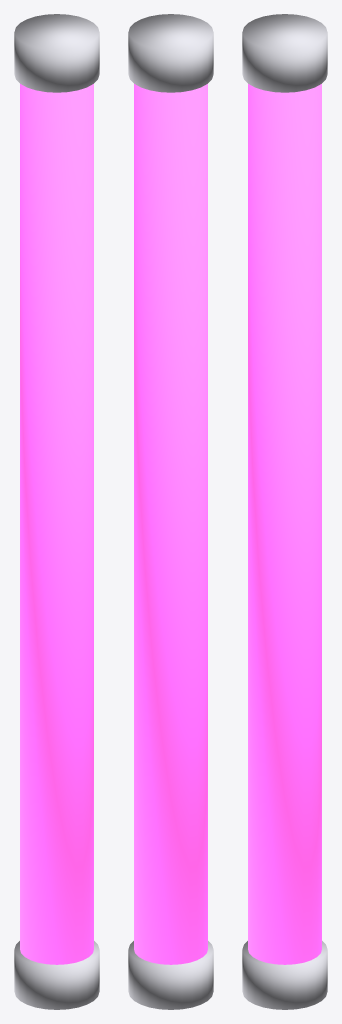
The model's file is glowstick_pink.glb.
3 views of the same model, side by side, from view 1: azimuth 30°, elevation 25°; view 2: azimuth 150°, elevation 25°; view 3: azimuth 330°, elevation 25° (orthographic).
Parts seen in each view (by area): view 1: GlowPink; view 2: GlowPink; view 3: GlowPink.
Part boxes in pixels (left/top/right/bottom): GlowPink: left=14, top=14, right=99, bottom=1009; GlowPink: left=128, top=14, right=213, bottom=1009; GlowPink: left=242, top=14, right=327, bottom=1009.
Bounding box in the file's own units: 0.0126 × 0.157 × 0.0126.
